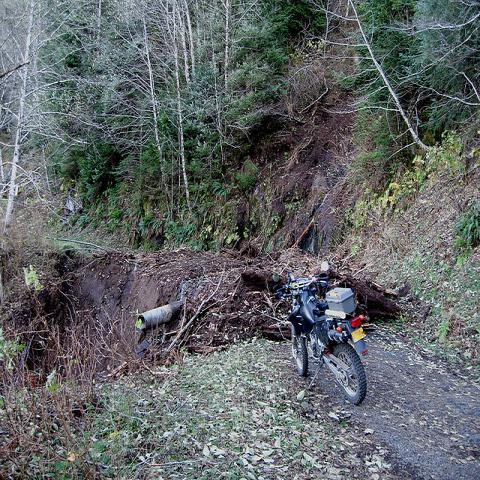motorcycle: (277, 262, 369, 406)
